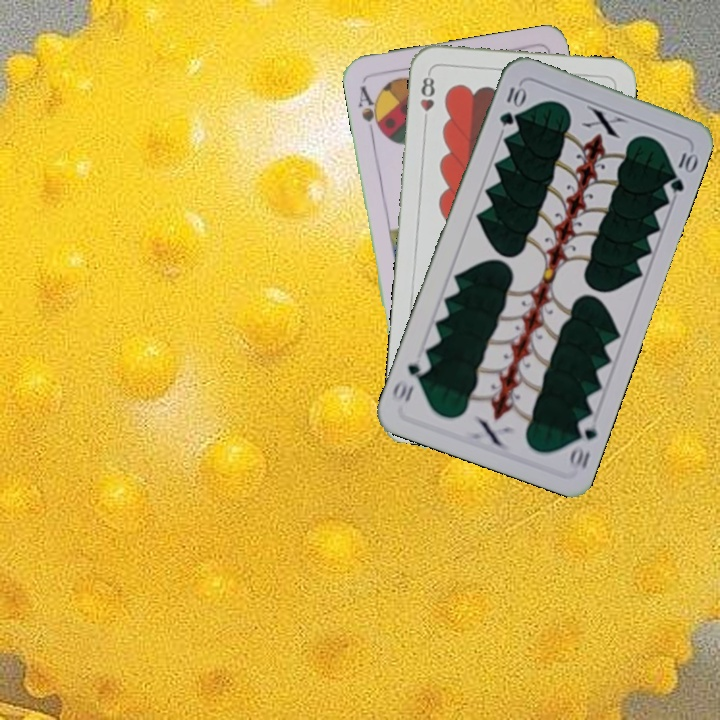G10: (565, 412, 600, 473), (495, 80, 527, 129)
H8: (416, 68, 438, 128)
SA: (353, 82, 385, 138)
